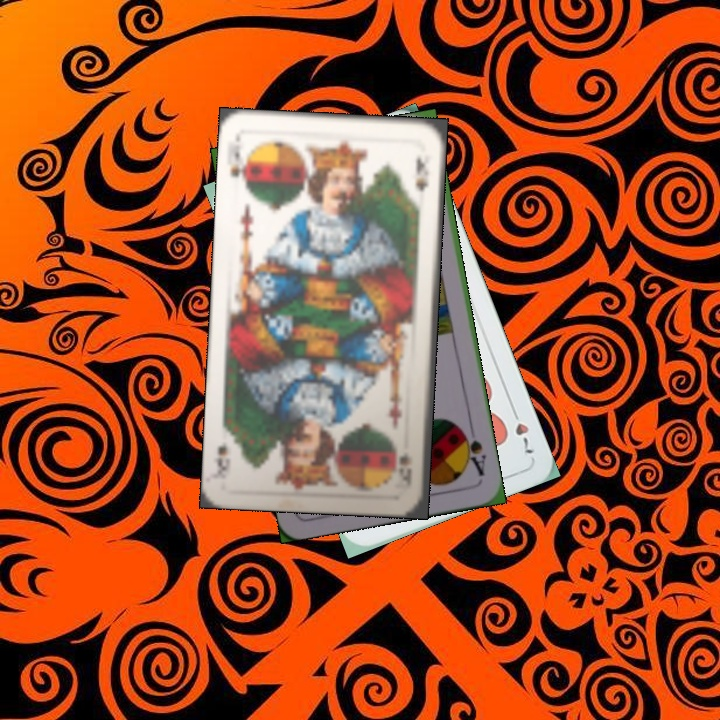H7: (506, 402, 538, 457)
SA: (457, 422, 489, 478)
SK: (225, 146, 251, 192), (394, 449, 415, 491)
